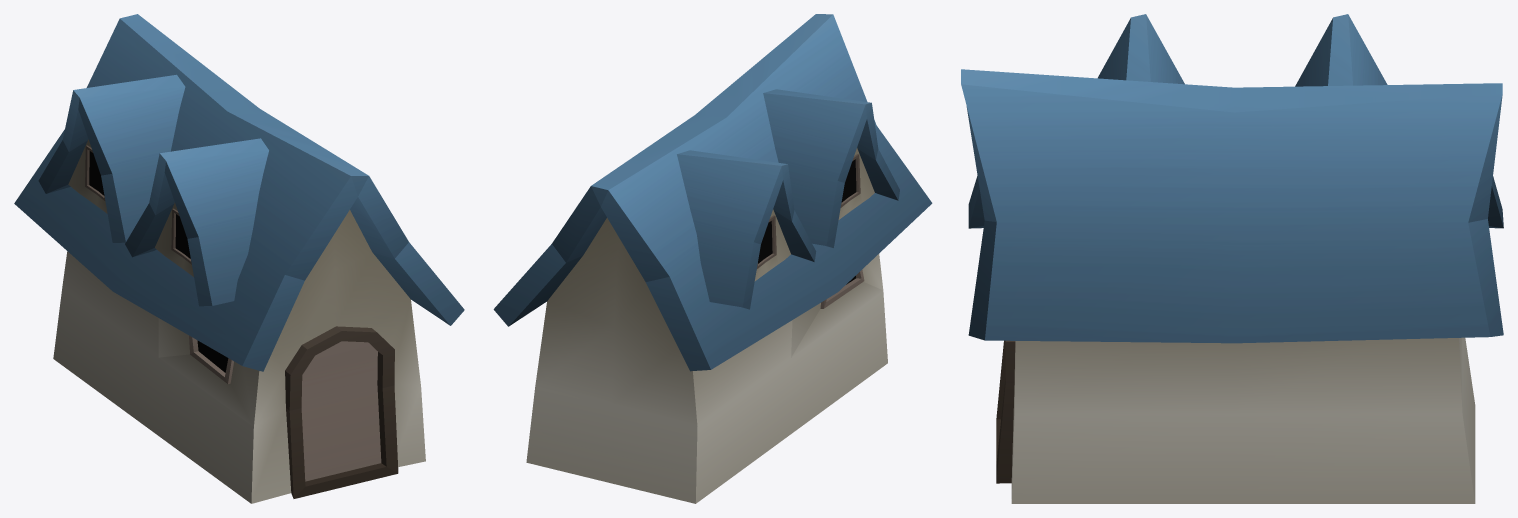
File: house03_mdl.FBX
3 views of the same model, side by side, from view 1: azimuth 30°, elevation 25°; view 2: azimuth 150°, elevation 25°; view 3: azimuth 270°, elevation 25° (orthographic). The views are drawn at different scales.
Visible parts, largest first — view 1: house03; view 2: house03; view 3: house03.
Part boxes in pixels (x1,y1,x2,y2): house03: (14, 14, 464, 503); house03: (493, 14, 932, 503); house03: (961, 14, 1503, 503).
Bounding box in the file's own units: 2.77 × 3.28 × 4.24.
Materials: 1 (1 with a texture image).
